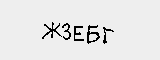Г: (119, 12, 145, 46), (87, 14, 116, 42)
Р: (19, 15, 34, 35)
С: (72, 10, 91, 41), (33, 13, 50, 34)
Қ: (53, 12, 77, 42)
